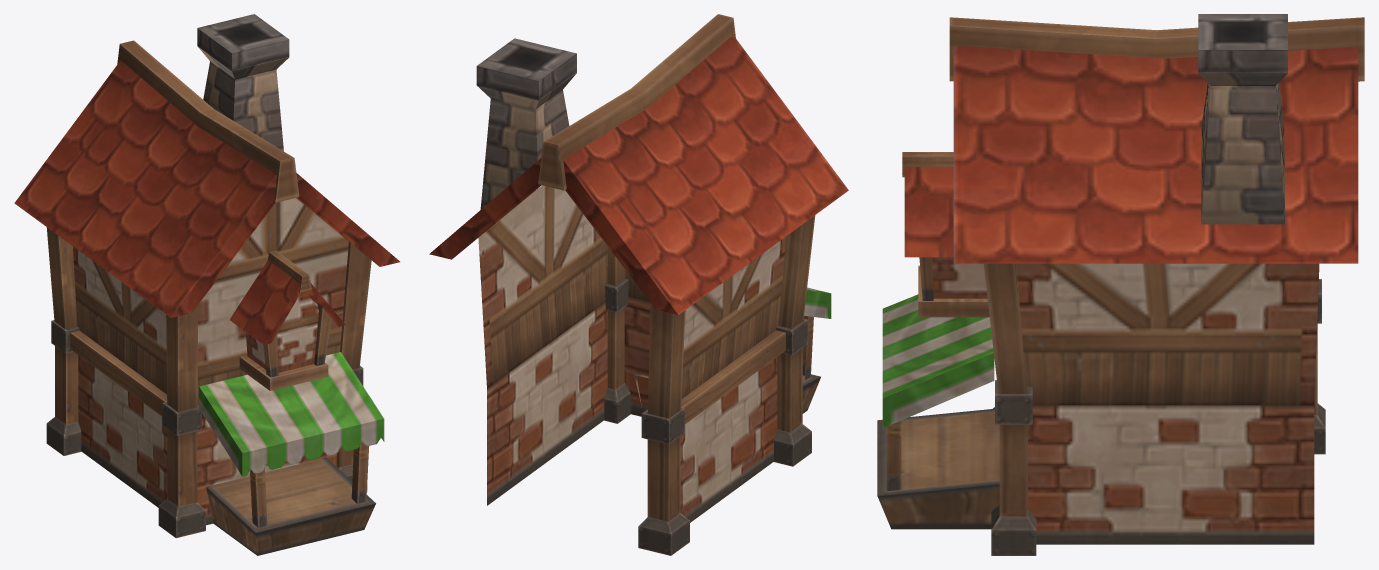
File: paran_house_store.FBX
3 views of the same model, side by side, from view 1: azimuth 30°, elevation 25°; view 2: azimuth 150°, elevation 25°; view 3: azimuth 270°, elevation 25° (orthographic). The views are drawn at different scales.
Visible parts, largest first — view 1: Object085; view 2: Object085; view 3: Object085.
Boxes of the visible parts, x1,y1,x2,y2 form: Object085: (14, 14, 399, 555); Object085: (429, 14, 848, 555); Object085: (877, 14, 1364, 555).
Size of the model in its own units: 91.32 by 130 by 149.
